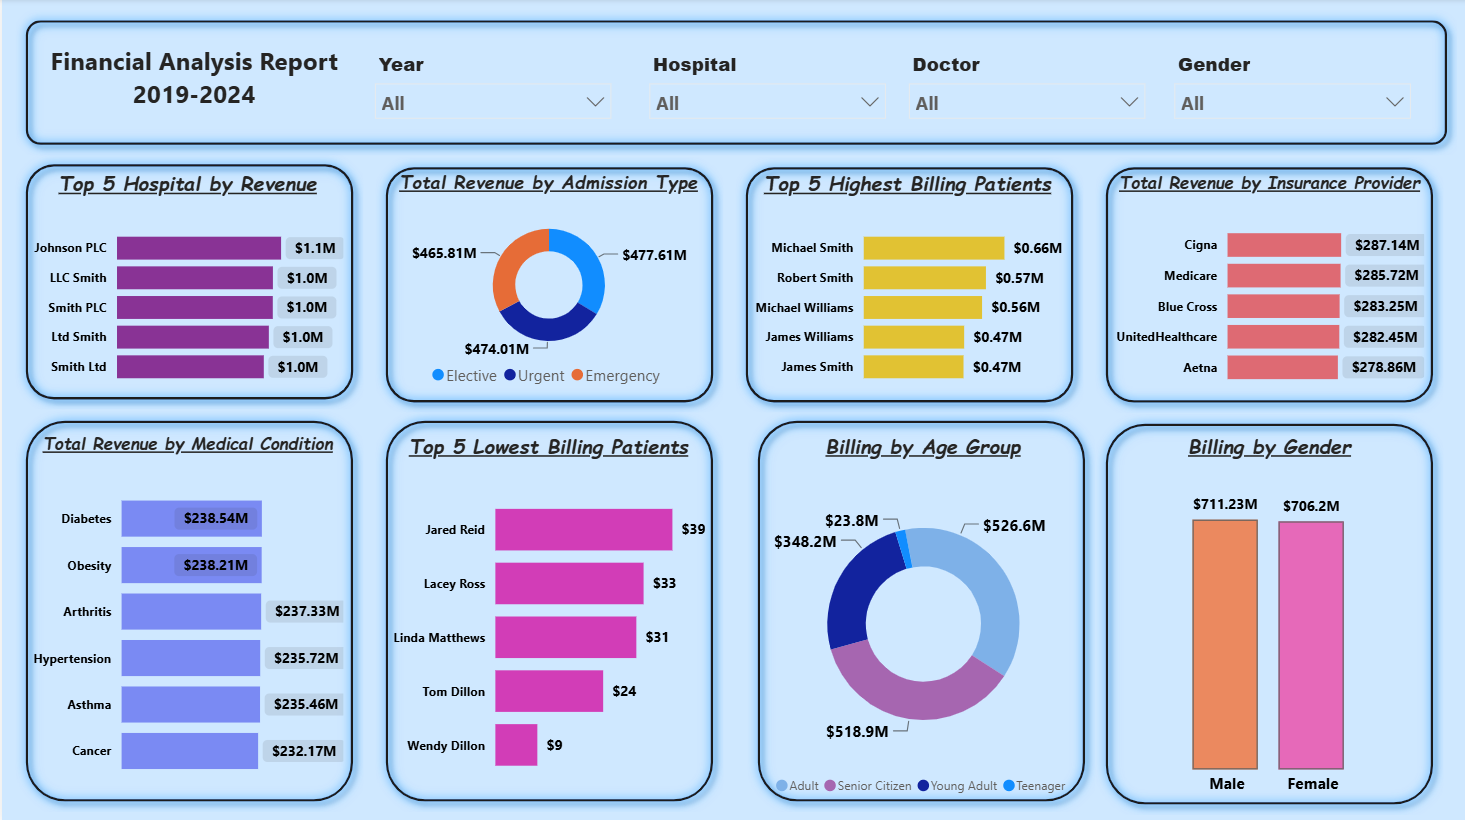

Layout of this report page (visuals, bound fields, positions):
{"tool":"powerbi","page":{"name":"Financial Analysis","canvas":[1280,720],"ordinal":2},"visuals":[{"type":"shape","box":[11.5,10.1,1256.9,126.6],"z":0},{"type":"slicer","fields":{"Values":["Cleaned_Dataset.Date of Admission.Variation.Date Hierarchy.Year"]},"box":[315,41,226,65.6],"z":1000},{"type":"slicer","fields":{"Values":["Cleaned_Dataset.Hospital"]},"box":[554.1,41,226,65.6],"z":2000},{"type":"slicer","fields":{"Values":["Cleaned_Dataset.Doctor"]},"box":[780,41,226,65.6],"z":3000},{"type":"slicer","fields":{"Values":["Cleaned_Dataset.Gender"]},"box":[1011.8,41,226,65.6],"z":4000},{"type":"textbox","box":[21.6,34.5,293.4,77.7],"z":5000},{"type":"shape","box":[11.5,136.6,303.4,222.9],"z":6000},{"type":"shape","box":[325,138.1,303.4,222.9],"z":7000},{"type":"shape","box":[640,138.1,303.4,222.9],"z":8000},{"type":"shape","box":[953.4,138.5,303.2,223.1],"z":9000},{"type":"shape","box":[11.7,360.1,303.2,349.9],"z":10000},{"type":"shape","box":[325.1,360.1,303.2,349.9],"z":11000},{"type":"shape","box":[650.2,360.1,303.2,349.9],"z":12000},{"type":"shape","box":[953.4,361.5,303.2,349.9],"z":13000},{"type":"donutChart","fields":{"Category":["Cleaned_Dataset.Admission Type"],"Y":["Measure.Total Revenue"]},"box":[335.1,149.6,283.3,198.5],"z":14000},{"type":"clusteredBarChart","title":"Top 5 Hospital by Revenue","fields":{"Y":["Measure.Total Revenue"],"Category":["Cleaned_Dataset.Hospital"]},"box":[21.6,149.6,281.9,198.5],"z":15000},{"type":"clusteredBarChart","fields":{"Y":["Measure.Total Revenue"],"Category":["Cleaned_Dataset.Medical Condition"]},"box":[21.6,378.2,281.9,316.4],"z":16000},{"type":"clusteredBarChart","fields":{"Y":["Measure.Total Revenue"],"Category":["Cleaned_Dataset.Insurance Provider"]},"box":[965.1,150.2,279.9,198.3],"z":17000},{"type":"clusteredBarChart","title":"Top 5 Highest Billing Patients","fields":{"Category":["Cleaned_Dataset.Name"],"Y":["Measure.Total Revenue"]},"box":[650,149.6,279,198.5],"z":18000},{"type":"clusteredBarChart","title":"Top 5 Lowest Billing Patients","fields":{"Category":["Cleaned_Dataset.Name"],"Y":["Measure.Positive Revenue"]},"box":[335.1,378.2,283.3,316.4],"z":19000},{"type":"donutChart","title":"Billing by Age Group","fields":{"Category":["Cleaned_Dataset.Age Band"],"Y":["Measure.Total Revenue"]},"box":[663.3,377.6,279.9,326.6],"z":20000},{"type":"clusteredColumnChart","title":"Billing by Gender","fields":{"Category":["Cleaned_Dataset.Gender"],"Y":["Measure.Total Revenue"]},"box":[965.1,377.6,279.9,326.6],"z":21000}]}

Visuals, with their boxes in screenshot pixels (x1, y1, x2, y2), scaled from the page's 1280x720 canvas onto the 1465x820 screenshot:
shape: [x1=13, y1=12, x2=1452, y2=156]
slicer - Cleaned_Dataset.Date of Admission.Variation.Date Hierarchy.Year: [x1=361, y1=47, x2=619, y2=121]
slicer - Cleaned_Dataset.Hospital: [x1=634, y1=47, x2=893, y2=121]
slicer - Cleaned_Dataset.Doctor: [x1=893, y1=47, x2=1151, y2=121]
slicer - Cleaned_Dataset.Gender: [x1=1158, y1=47, x2=1417, y2=121]
textbox: [x1=25, y1=39, x2=361, y2=128]
shape: [x1=13, y1=156, x2=360, y2=409]
shape: [x1=372, y1=157, x2=719, y2=411]
shape: [x1=732, y1=157, x2=1080, y2=411]
shape: [x1=1091, y1=158, x2=1438, y2=412]
shape: [x1=13, y1=410, x2=360, y2=809]
shape: [x1=372, y1=410, x2=719, y2=809]
shape: [x1=744, y1=410, x2=1091, y2=809]
shape: [x1=1091, y1=412, x2=1438, y2=810]
donutChart - Cleaned_Dataset.Admission Type x Measure.Total Revenue: [x1=384, y1=170, x2=708, y2=396]
"Top 5 Hospital by Revenue" clusteredBarChart: [x1=25, y1=170, x2=347, y2=396]
clusteredBarChart - Measure.Total Revenue x Cleaned_Dataset.Medical Condition: [x1=25, y1=431, x2=347, y2=791]
clusteredBarChart - Measure.Total Revenue x Cleaned_Dataset.Insurance Provider: [x1=1105, y1=171, x2=1425, y2=397]
"Top 5 Highest Billing Patients" clusteredBarChart: [x1=744, y1=170, x2=1063, y2=396]
"Top 5 Lowest Billing Patients" clusteredBarChart: [x1=384, y1=431, x2=708, y2=791]
"Billing by Age Group" donutChart: [x1=759, y1=430, x2=1080, y2=802]
"Billing by Gender" clusteredColumnChart: [x1=1105, y1=430, x2=1425, y2=802]
